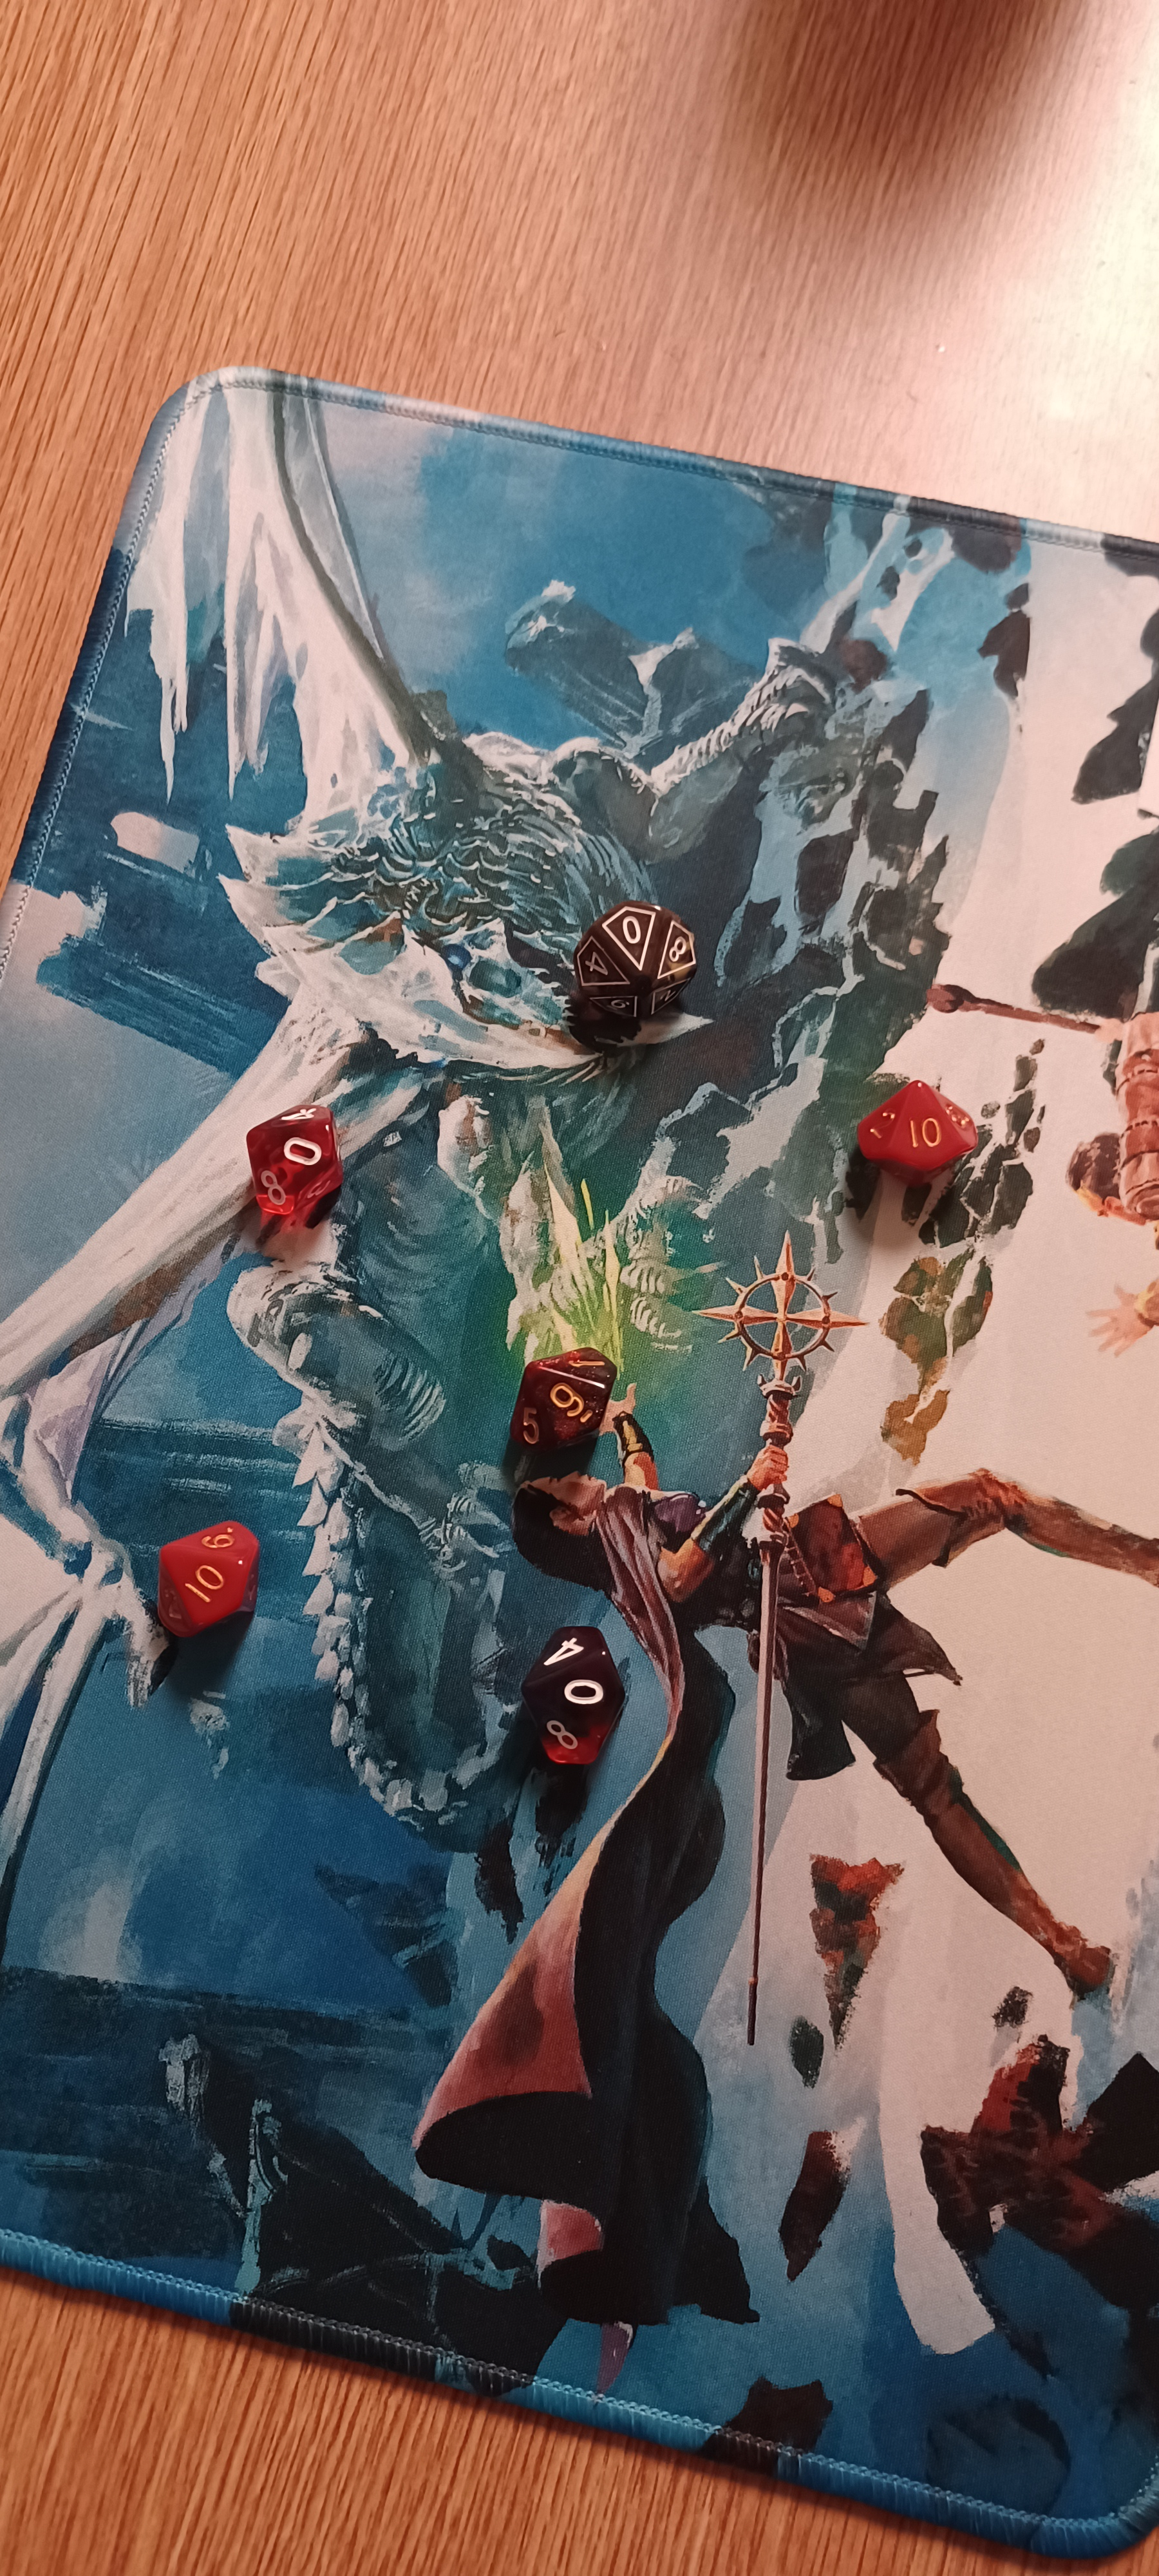nine: (483, 1321, 650, 1480)
ten: (125, 1495, 304, 1663), (831, 1055, 1010, 1209)
zero: (471, 1603, 689, 1801), (542, 879, 744, 1050), (213, 1086, 376, 1245)
